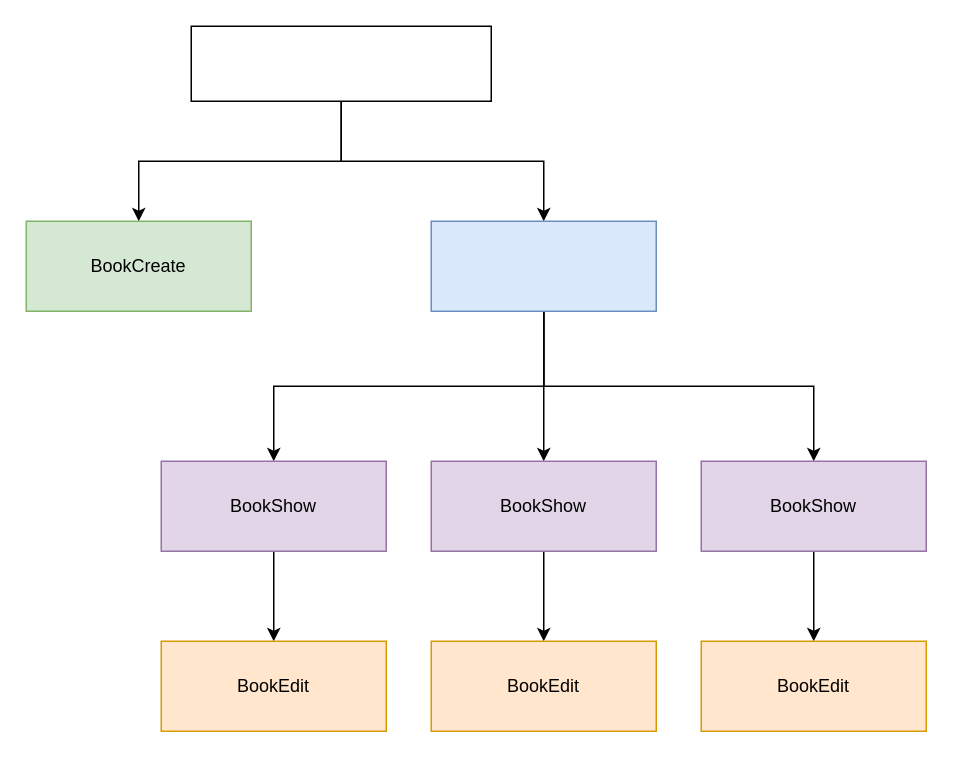
Image size: 953x758. Some labels were removed from this diagram. The shapes that lost their labels are listed below. From the top down, each one's centre as x and y in pixels, then its label:
At (340,63): "BooksApp".
At (543,265): "BookList".
